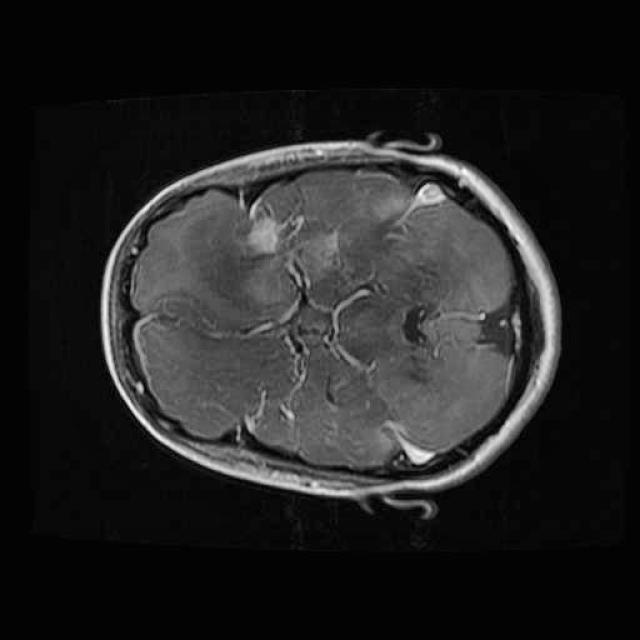Non-Tumor: (226, 201, 365, 316)
